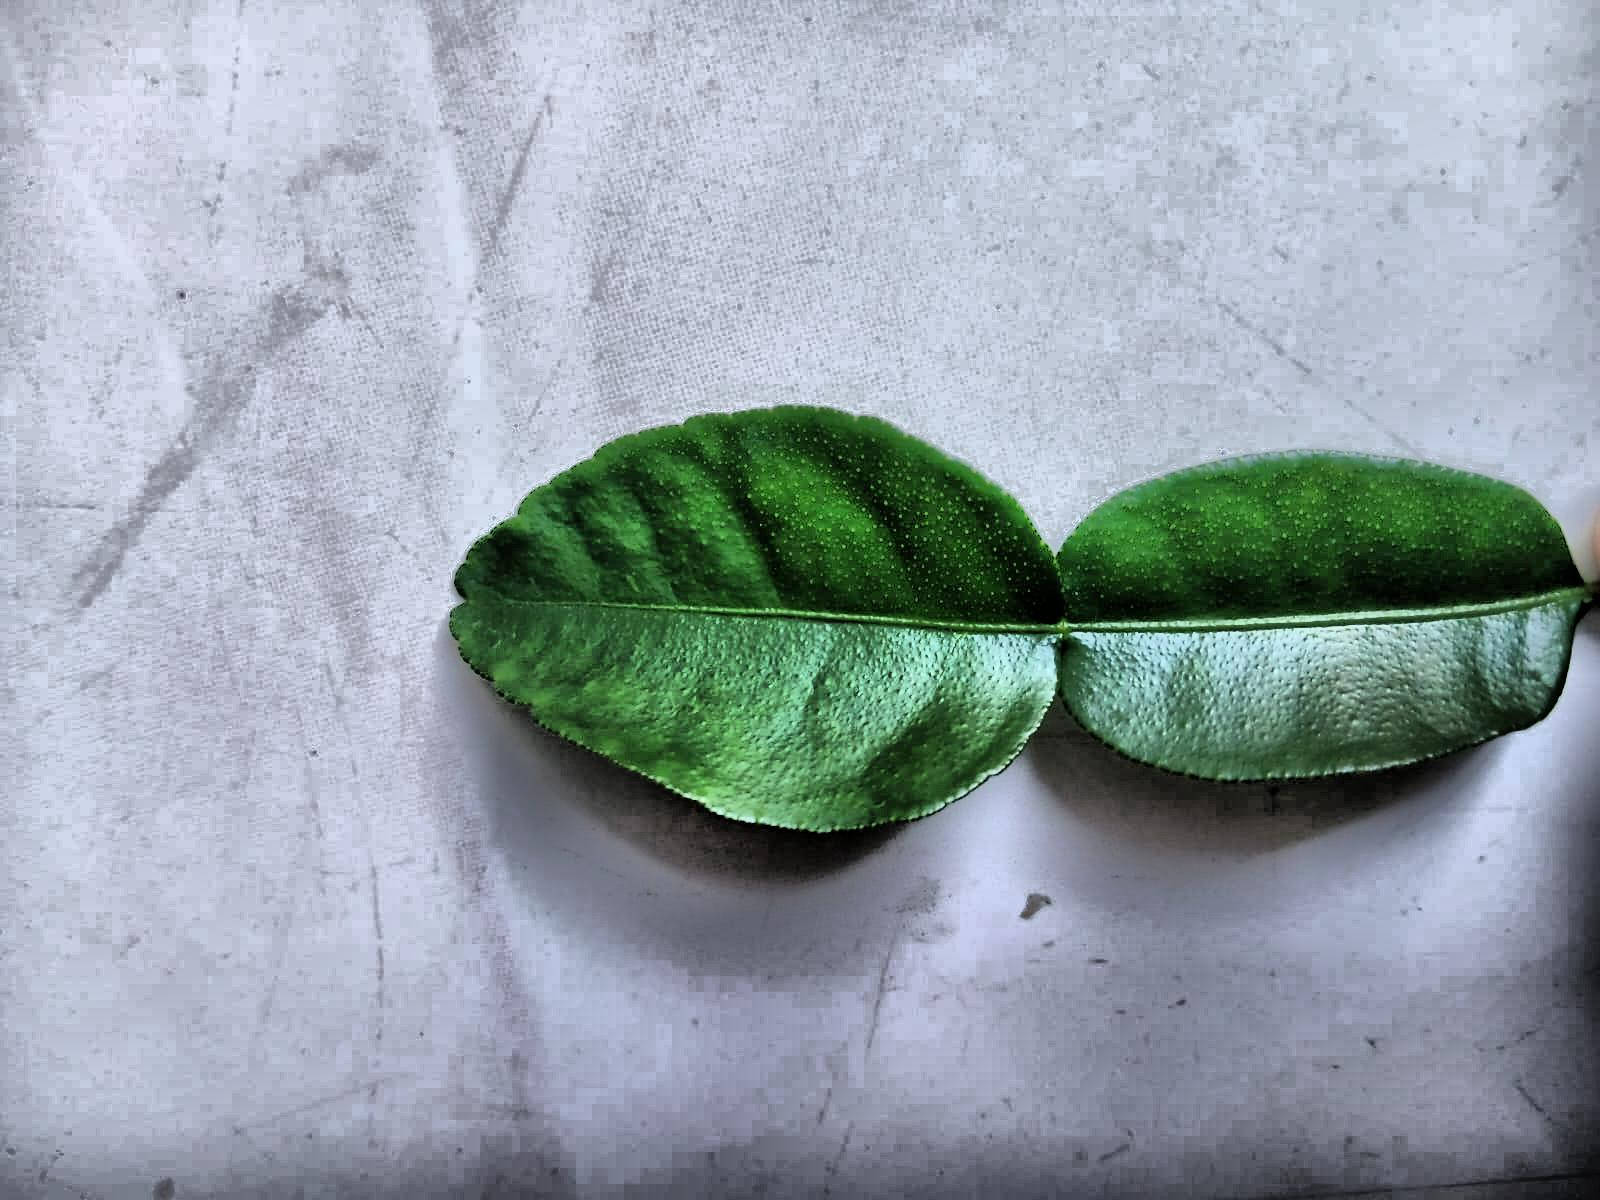daun jeruk: (449, 406, 1587, 832)
